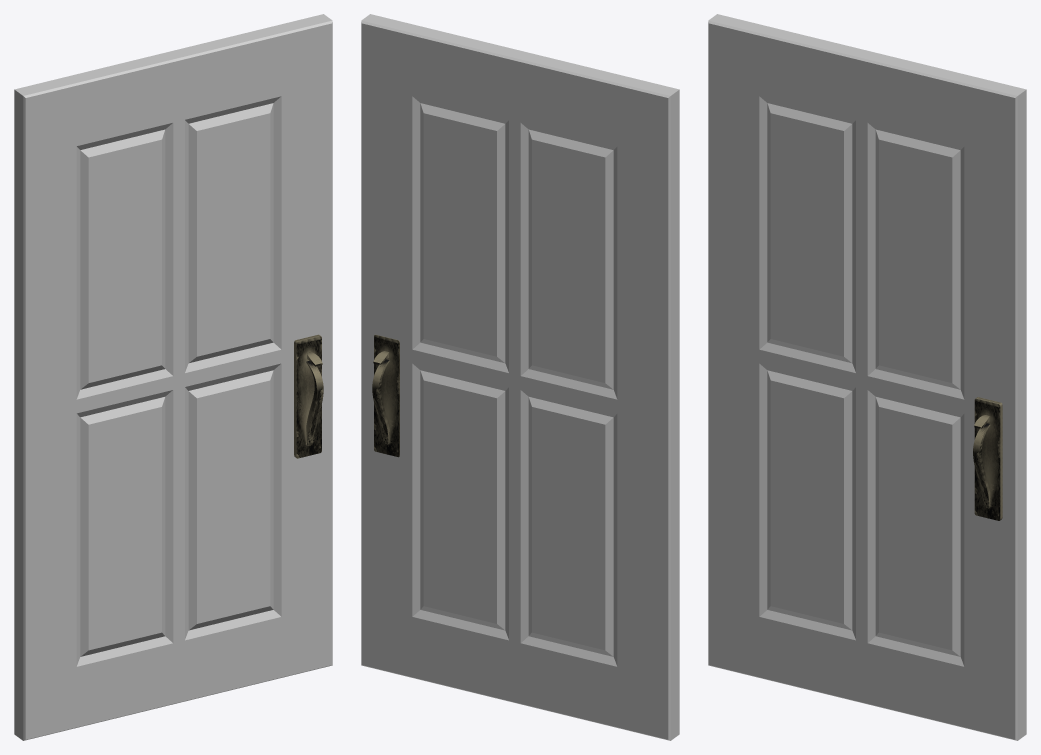
File: Door1.FBX
3 renders of one model, left to right at view 1: azimuth 30°, elevation 25°; view 2: azimuth 150°, elevation 25°; view 3: azimuth 330°, elevation 25°, orthographic.
Visible parts, largest first — view 1: Door1, Box004, Box006; view 2: Door1, Box001, Box002; view 3: Door1, Box004, Box006.
Boxes of the visible parts, x1=… form: Door1: x1=14, y1=14, x2=332, y2=740; Box004: x1=294, y1=334, x2=321, y2=458; Box006: x1=306, y1=361, x2=323, y2=445; Door1: x1=361, y1=14, x2=679, y2=740; Box001: x1=374, y1=334, x2=399, y2=457; Box002: x1=372, y1=359, x2=389, y2=443; Door1: x1=708, y1=14, x2=1026, y2=740; Box004: x1=974, y1=397, x2=1002, y2=520; Box006: x1=973, y1=423, x2=990, y2=507.
Bounding box in the file's own units: 102 × 202 × 20.44.
